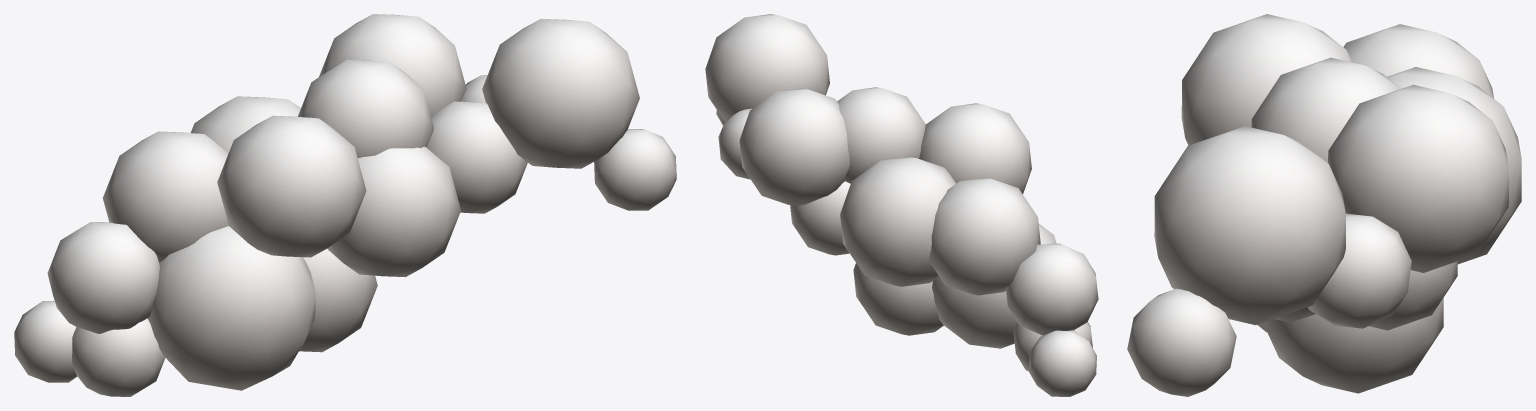
File: Cloud_1B.fbx
The picture shows the model from 3 angles, left to right: view 1: azimuth 30°, elevation 25°; view 2: azimuth 150°, elevation 25°; view 3: azimuth 270°, elevation 25°; orthographic projection. The views are drawn at different scales.
Visible parts, largest first — view 1: Cloud_1B; view 2: Cloud_1B; view 3: Cloud_1B.
Part boxes in pixels (box(x1,y1,x2,y2)): Cloud_1B: box(14, 14, 676, 396); Cloud_1B: box(705, 14, 1098, 396); Cloud_1B: box(1127, 14, 1521, 396).
Bounding box in the file's own units: 21.78 × 11.53 × 10.5.
